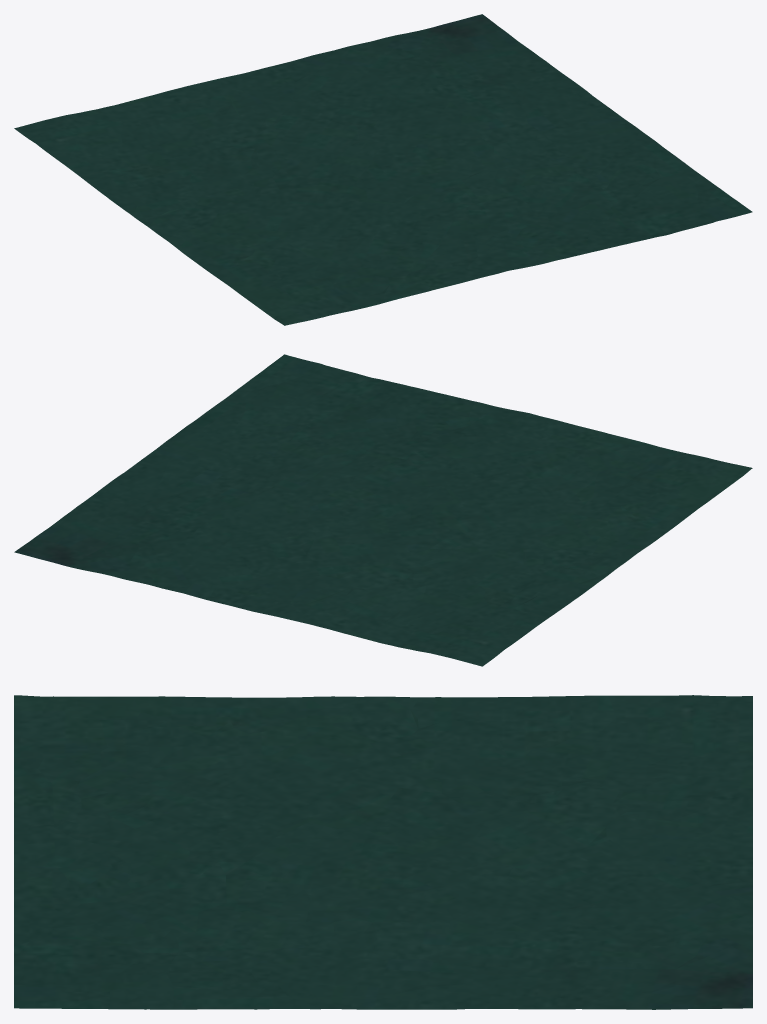
3 renders of one model, top to bottom at view 1: azimuth 30°, elevation 25°; view 2: azimuth 150°, elevation 25°; view 3: azimuth 270°, elevation 25°, orthographic. The views are drawn at different scales.
Size of the model in its own units: 104 by 0.6954 by 104.
Materials: 2 (2 with a texture image).
